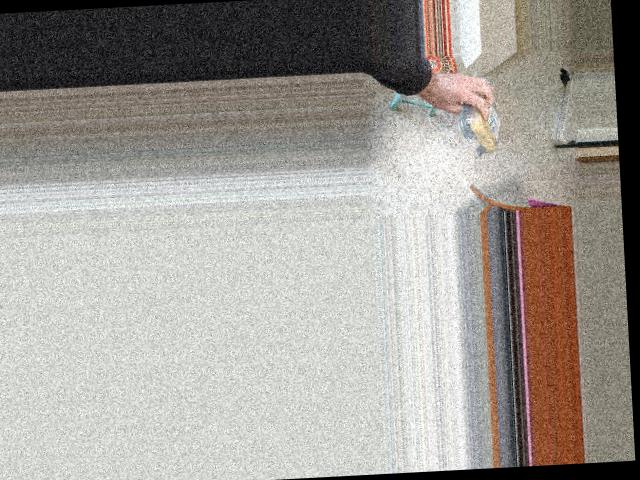cheese: (456, 81, 506, 159)
